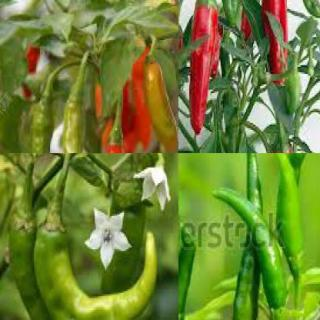green_chilli: (34, 208, 161, 319), (1, 207, 114, 319), (208, 184, 290, 308), (231, 153, 264, 319), (269, 153, 306, 266), (61, 90, 92, 152), (178, 245, 198, 319), (32, 88, 53, 152), (222, 90, 241, 152), (284, 77, 304, 113), (220, 0, 243, 31)
